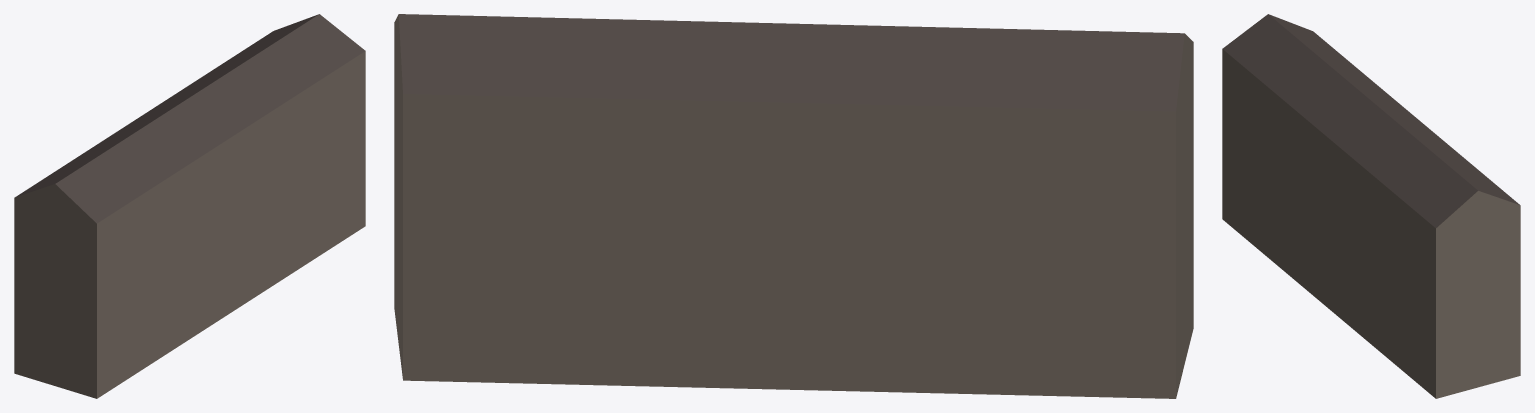
3 renders of one model, left to right at view 1: azimuth 30°, elevation 25°; view 2: azimuth 150°, elevation 25°; view 3: azimuth 270°, elevation 25°, orthographic. The views are drawn at different scales.
Visible parts, largest first — view 1: HP-w505643593; view 2: HP-w505643593; view 3: HP-w505643593.
Boxes of the visible parts, x1,y1,x2,y2 form: HP-w505643593: (14, 14, 365, 398); HP-w505643593: (394, 14, 1193, 398); HP-w505643593: (1222, 14, 1520, 398).
Size of the model in its own units: 22.28 by 10.38 by 14.27.
